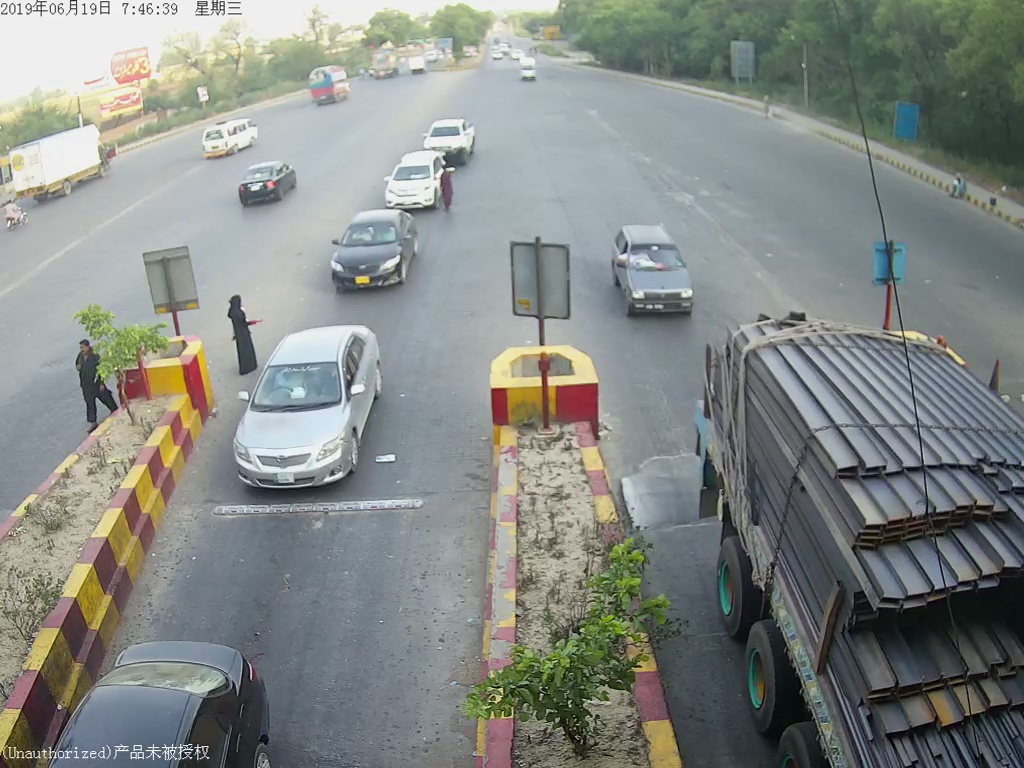Cat-1: (241, 329, 390, 486), (607, 220, 709, 325), (333, 210, 417, 288), (384, 146, 443, 212)
